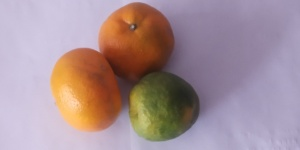BAD: (99, 1, 178, 82), (52, 46, 121, 132), (129, 72, 200, 140)
